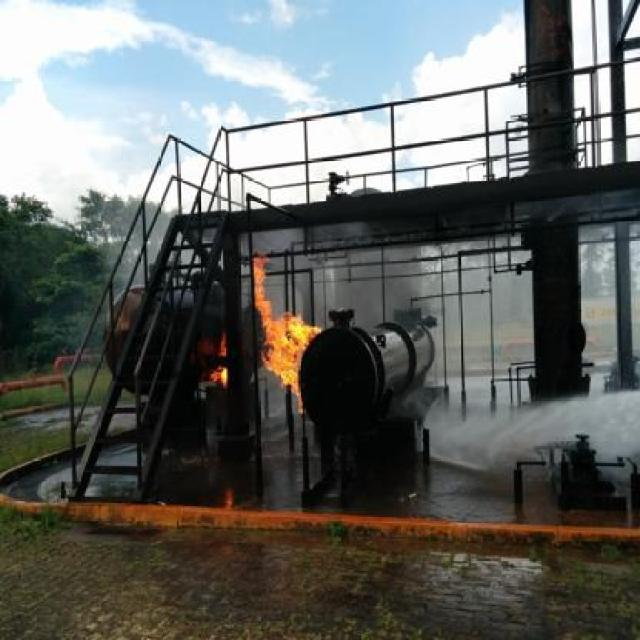Fire: (250, 253, 322, 422), (198, 328, 233, 394)
